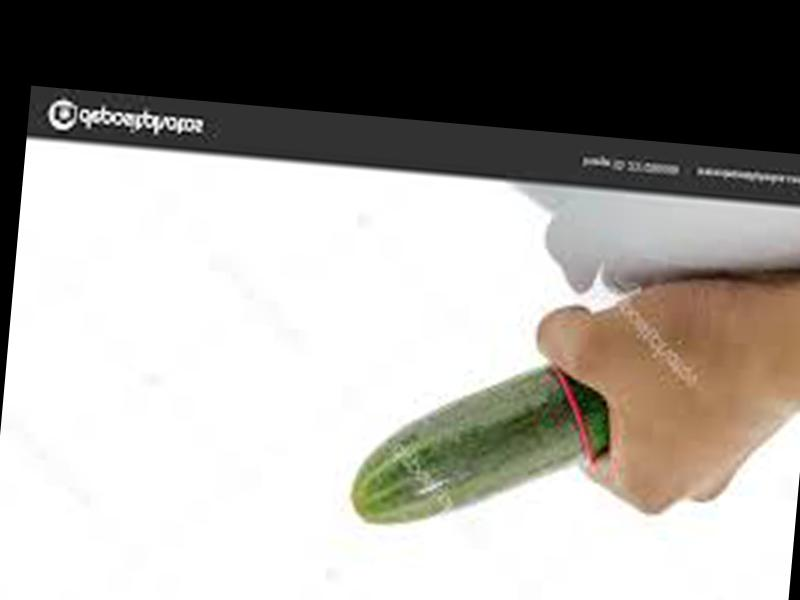Cucumber: (349, 350, 616, 543)
